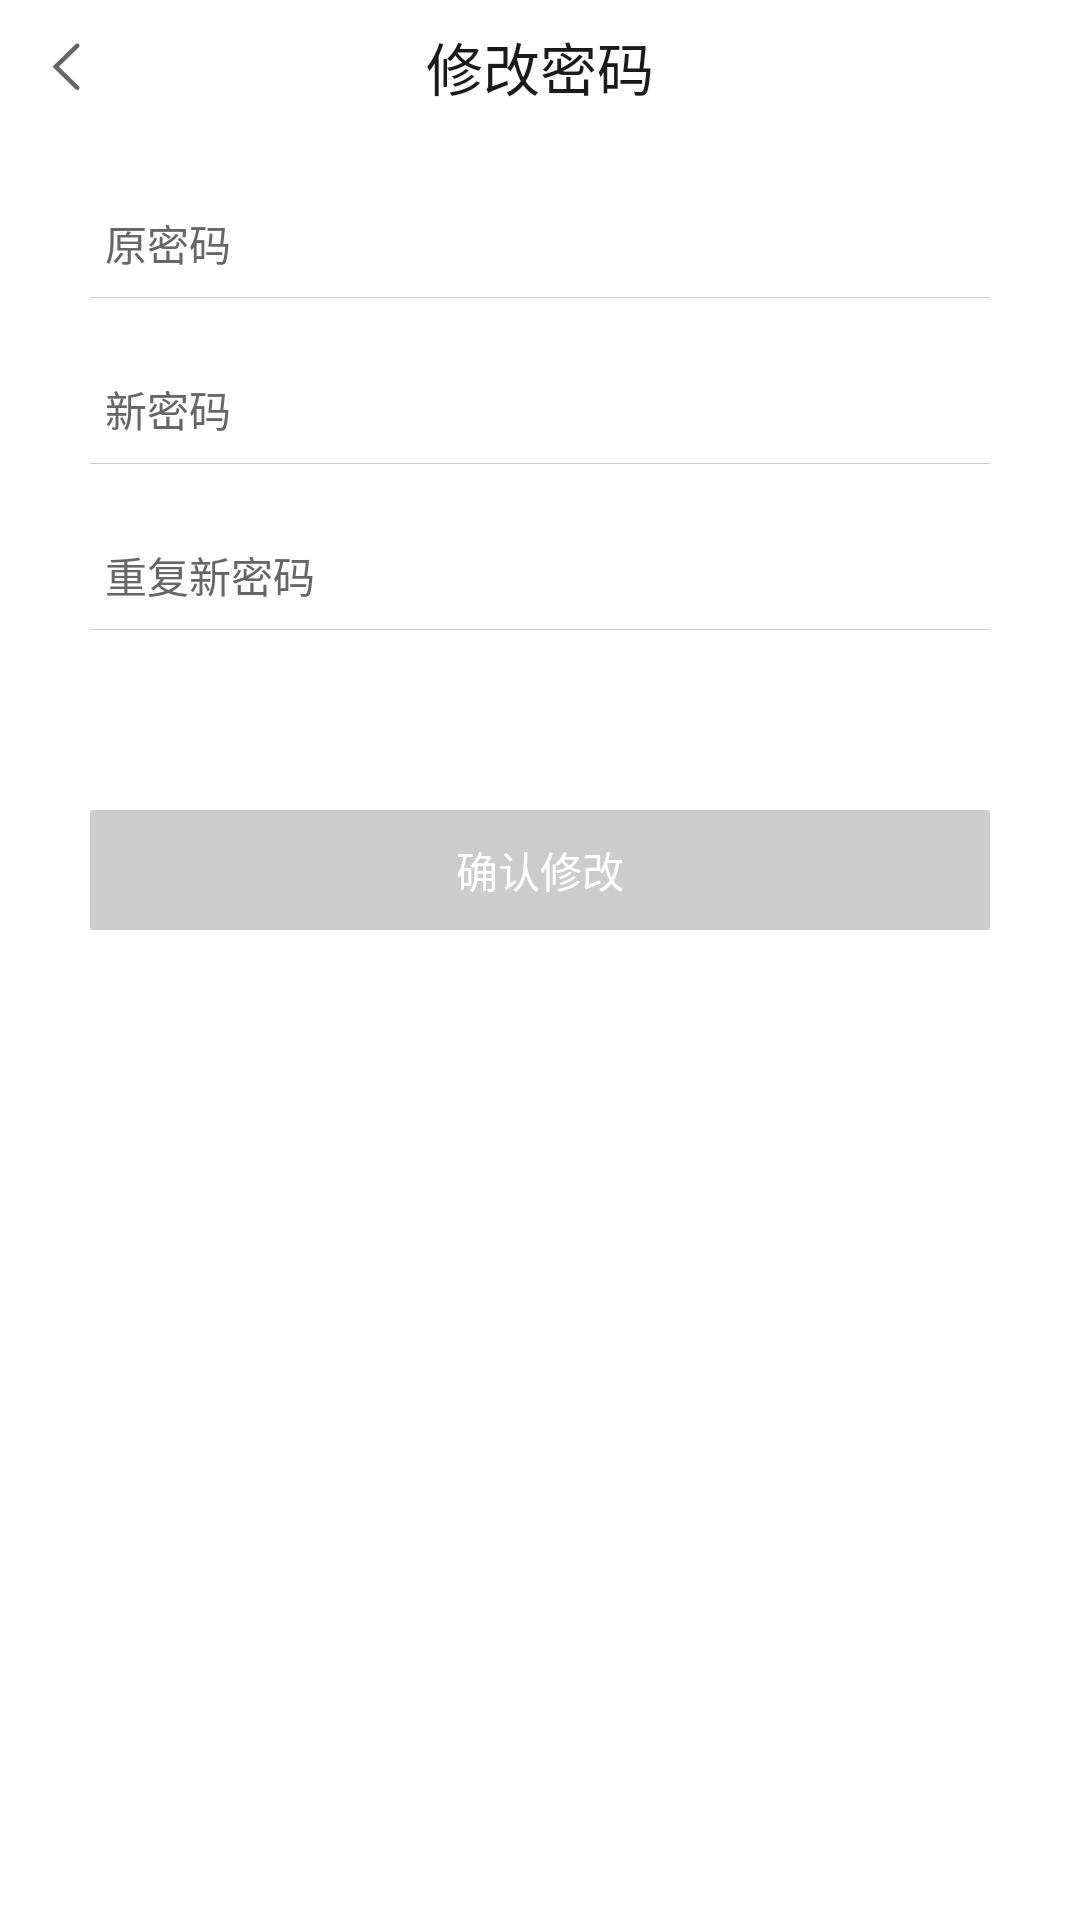

Icons on this 1080x1920 Android screen, each with its box as {"left": x1, "top": y1, "right": x2, "bottom": y2}:
back: {"left": 52, "top": 43, "right": 80, "bottom": 90}
